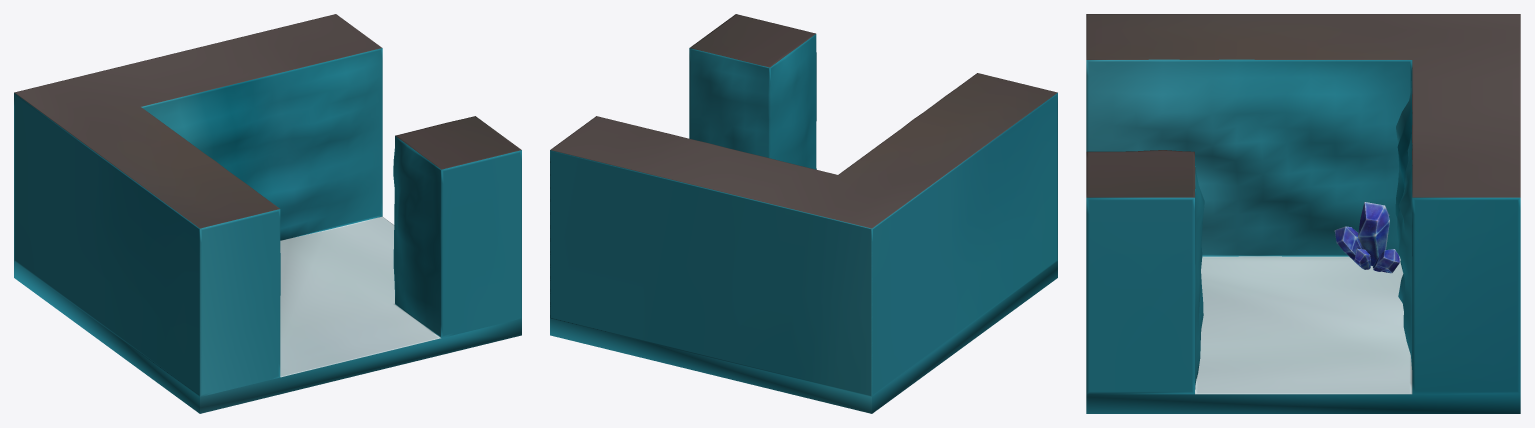
Rendered from Tile_Corner_Ice_v3.fbx.
3 renders of one model, left to right at view 1: azimuth 30°, elevation 25°; view 2: azimuth 150°, elevation 25°; view 3: azimuth 270°, elevation 25°, orthographic. The views are drawn at different scales.
Visible parts, largest first — view 1: TileCorner; view 2: TileCorner; view 3: TileCorner, Crystal.
Part boxes in pixels (bbox=[...]): TileCorner: bbox=[14, 14, 521, 413]; TileCorner: bbox=[550, 14, 1057, 413]; TileCorner: bbox=[1086, 14, 1520, 413]; Crystal: bbox=[1334, 202, 1399, 273].
Bounding box in the file's own units: 2000 × 1108 × 2001.
Materials: 4 (4 with a texture image).
